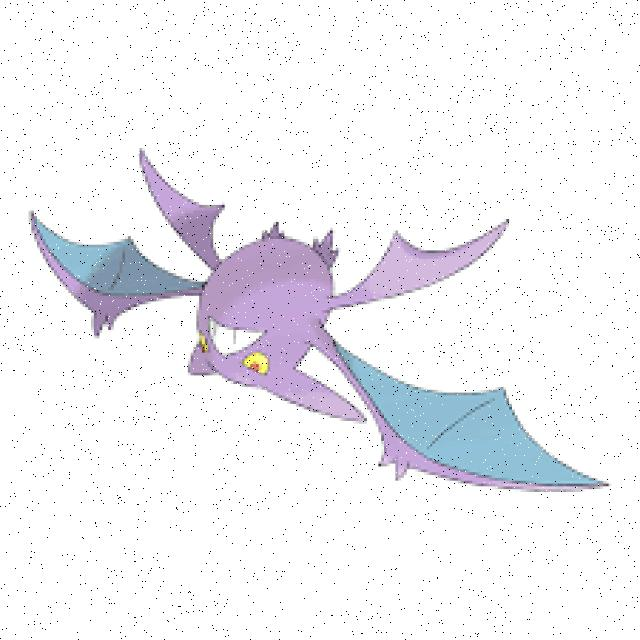crobat: (15, 146, 618, 493)
